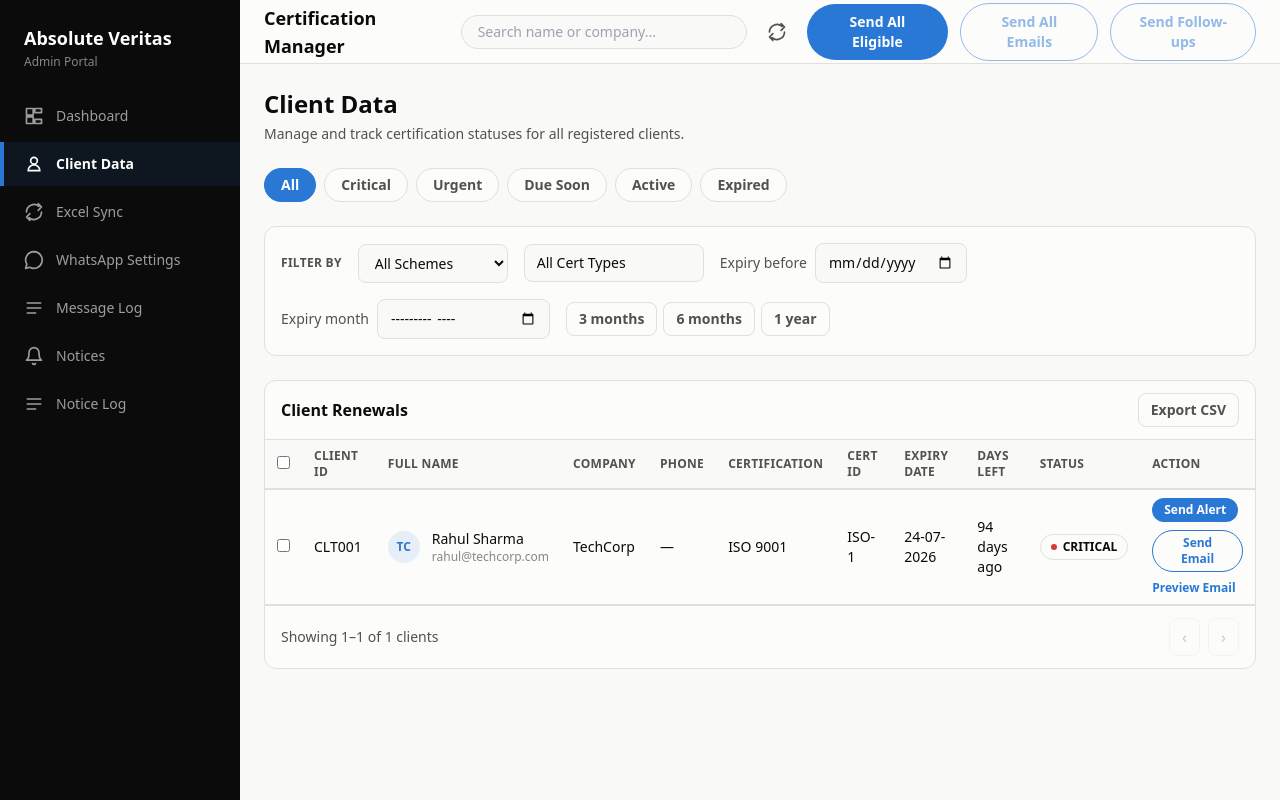
Test: App › does not send until the confirmation modal is accepted
Click the button "Send Alert": (1195, 510) [1152,498,1238,522]
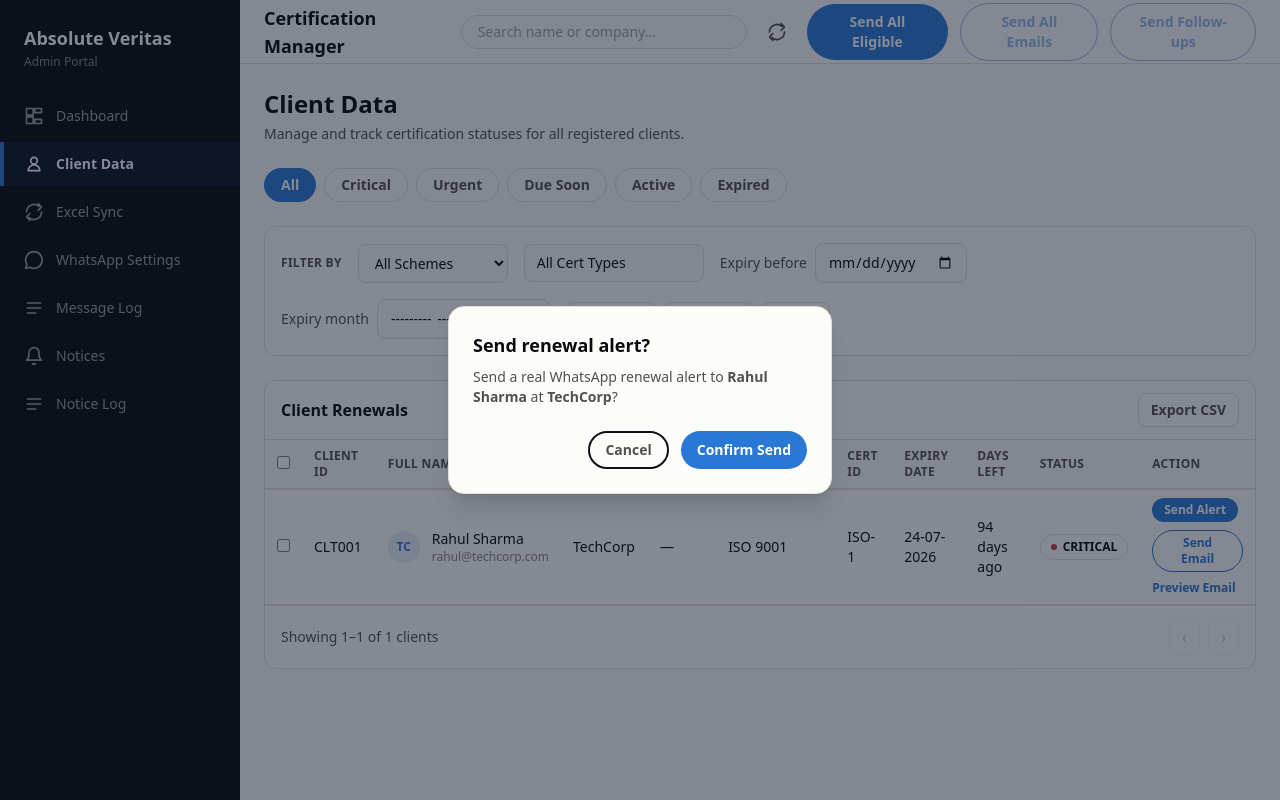
Now the dialog with test id "send-confirm-modal" is shown
